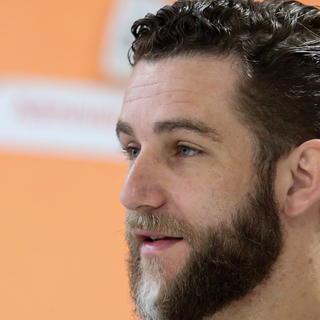eye: (161, 135, 211, 166), (117, 141, 148, 164)
